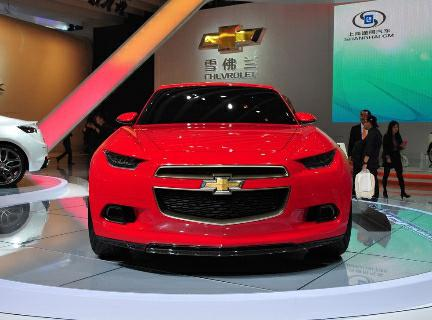雪佛兰-Code: (84, 76, 356, 267)
